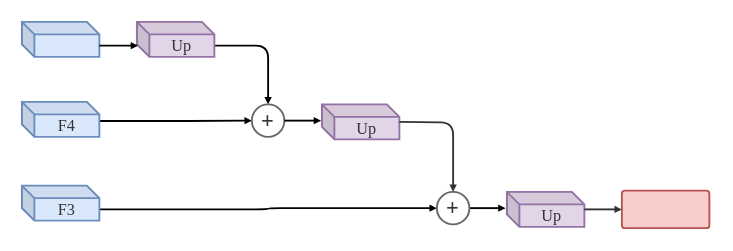
Some shapes in this 733 by 251 pixel diagram are drawn without their labels. Here are the shapes that lost their labels. From the top down, the centre of each, then its label:
pixel 60 38: F5
pixel 665 208: Heatmap
